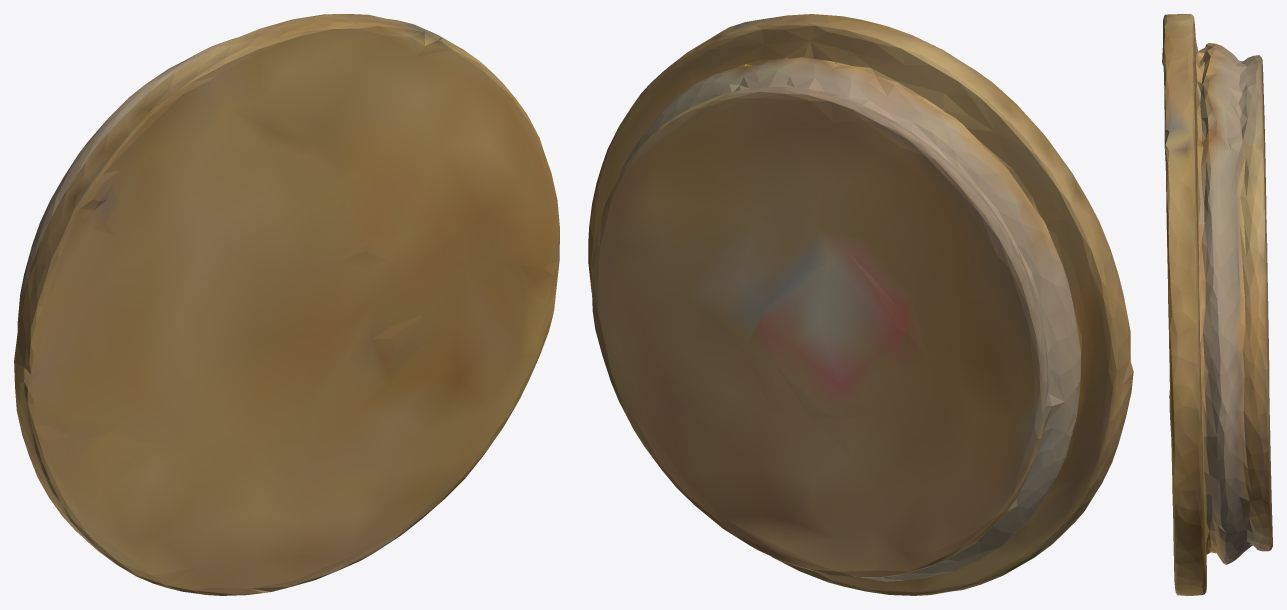
Rendered from scan.obj.
3 renders of one model, left to right at view 1: azimuth 30°, elevation 25°; view 2: azimuth 150°, elevation 25°; view 3: azimuth 270°, elevation 25°, orthographic. The views are drawn at different scales.
Parts seen in each view (by area): view 1: scan.ply; view 2: scan.ply; view 3: scan.ply.
Part boxes in pixels (bbox=[...]): scan.ply: bbox=[14, 14, 559, 595]; scan.ply: bbox=[588, 14, 1133, 595]; scan.ply: bbox=[1162, 14, 1272, 595].
Size of the model in its own units: 0.1079 by 0.1077 by 0.0205.
